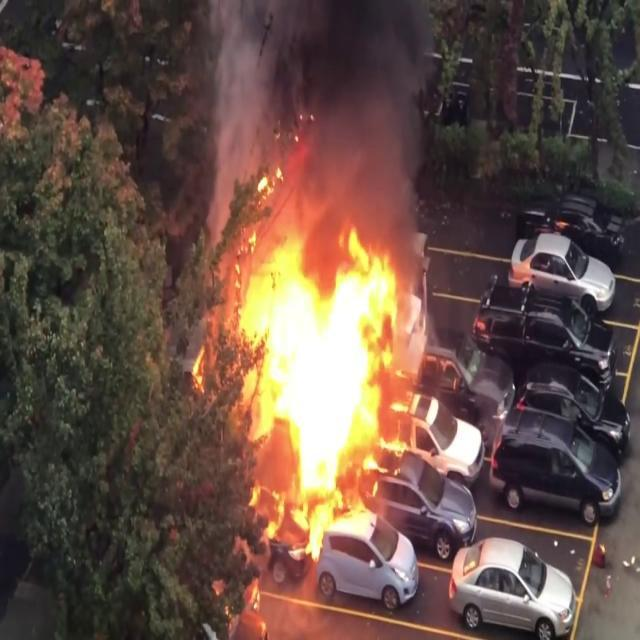Fire: (226, 171, 424, 548)
Smoke: (218, 0, 446, 249)
